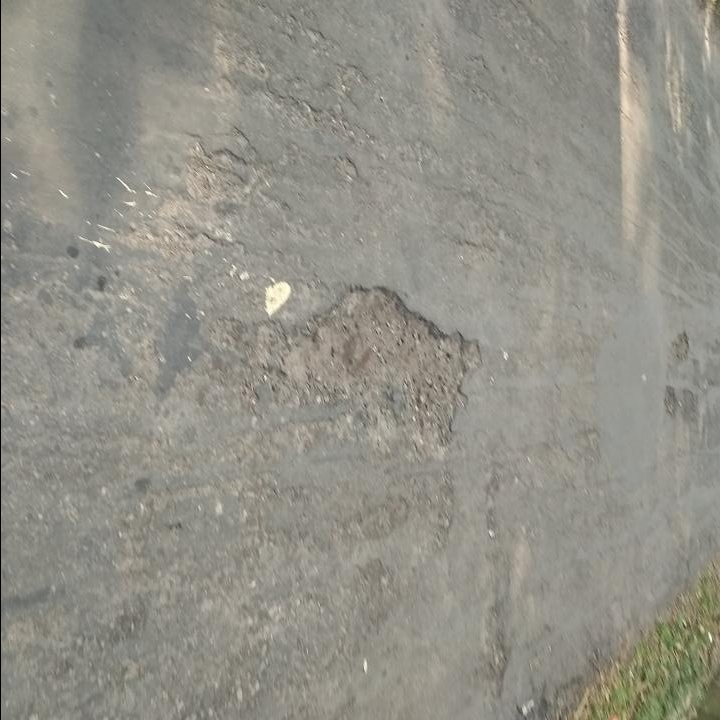pothole: (263, 280, 478, 456), (664, 331, 693, 367), (680, 386, 700, 426), (662, 382, 678, 419)
